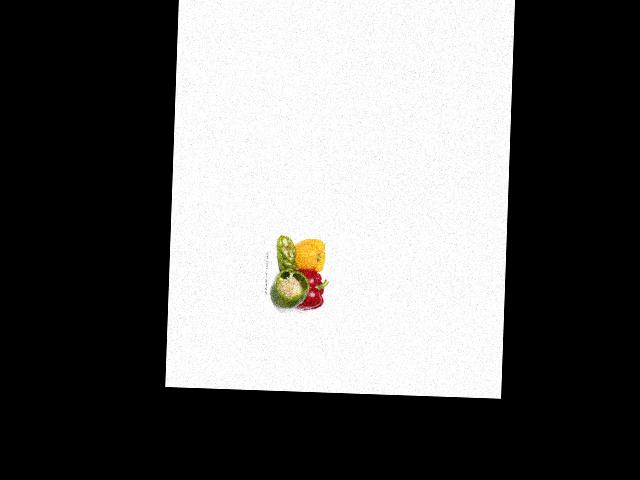bell_pepper: (272, 268, 311, 313)
